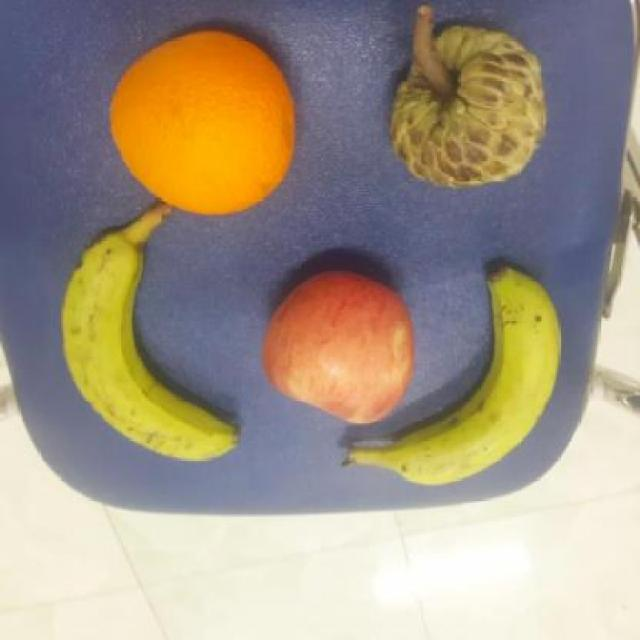apple: (260, 270, 414, 424)
banana: (343, 262, 562, 487), (62, 225, 240, 462)
oren: (108, 33, 295, 219)
sugar apple: (389, 27, 548, 188)
